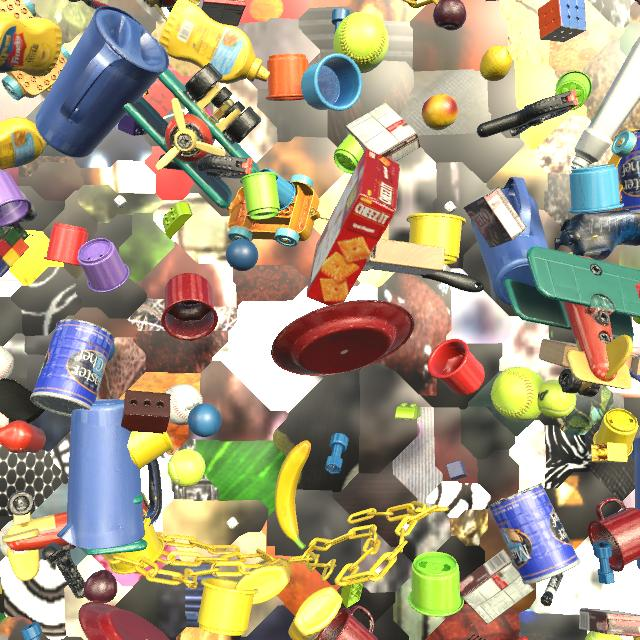ycb_002_master_chef_can: (488, 483, 581, 585), (30, 319, 115, 416), (615, 130, 640, 215)
ycb_003_cracker_box: (306, 148, 400, 306)
ycb_004_sugar_box: (0, 574, 2, 594)
ycb_006_mustard_bottle: (159, 0, 270, 84), (0, 12, 62, 77), (288, 586, 343, 640), (235, 557, 292, 605), (0, 117, 49, 170)
ycb_007_tuna_fish_can: (629, 354, 640, 382)
ycb_008_pudding_box: (460, 549, 535, 625), (345, 102, 421, 162), (464, 186, 527, 248), (579, 608, 640, 637)
ycb_009_gelatin_box: (198, 0, 246, 26), (485, 0, 498, 1)
ycb_011_banana: (275, 440, 311, 550)
ycb_014_lemon: (480, 45, 512, 81)
ycb_015_peach: (422, 94, 458, 130)
ycb_018_plum: (84, 570, 118, 603), (433, 0, 466, 31)
